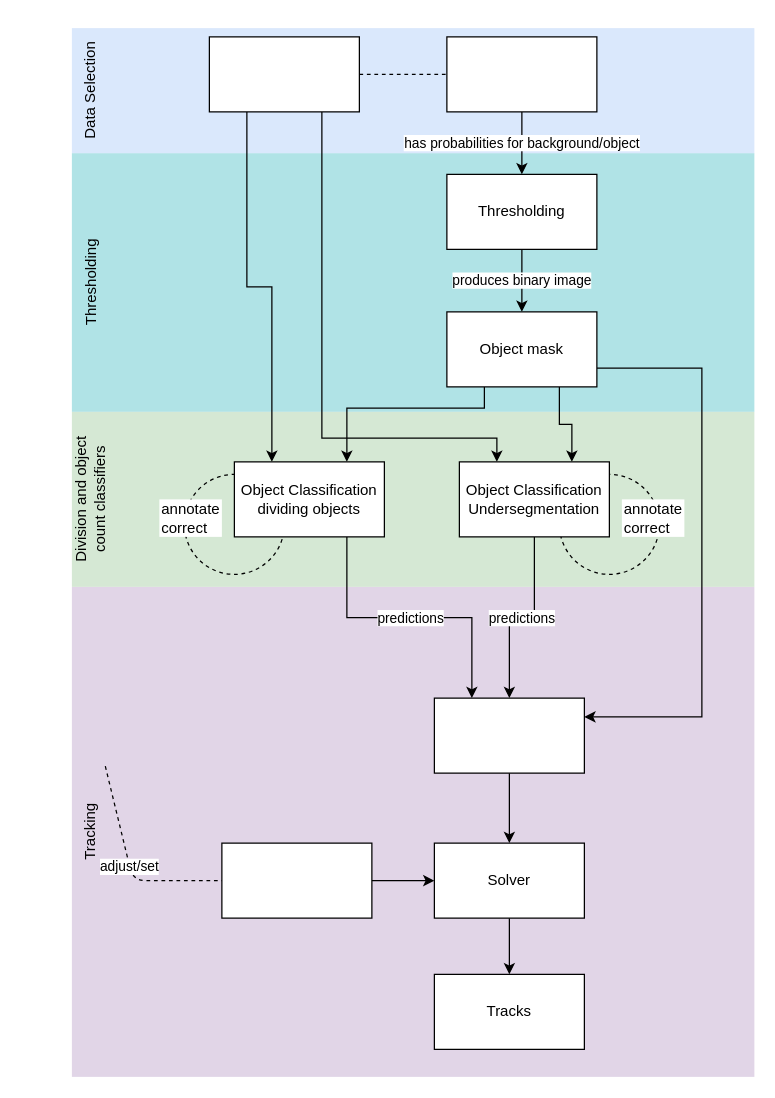
Some shapes in this 775 by 1098 pixel diagram are drawn without their labels. The box of each missing label's shape, as (x1, y1, x2, y2) in pixels:
Image/probability map: (446, 36, 597, 112)
Image/raw data: (208, 36, 359, 112)
Multi-Hypotheses Graph: (433, 697, 584, 773)
Solver Parameters: (221, 842, 372, 918)
